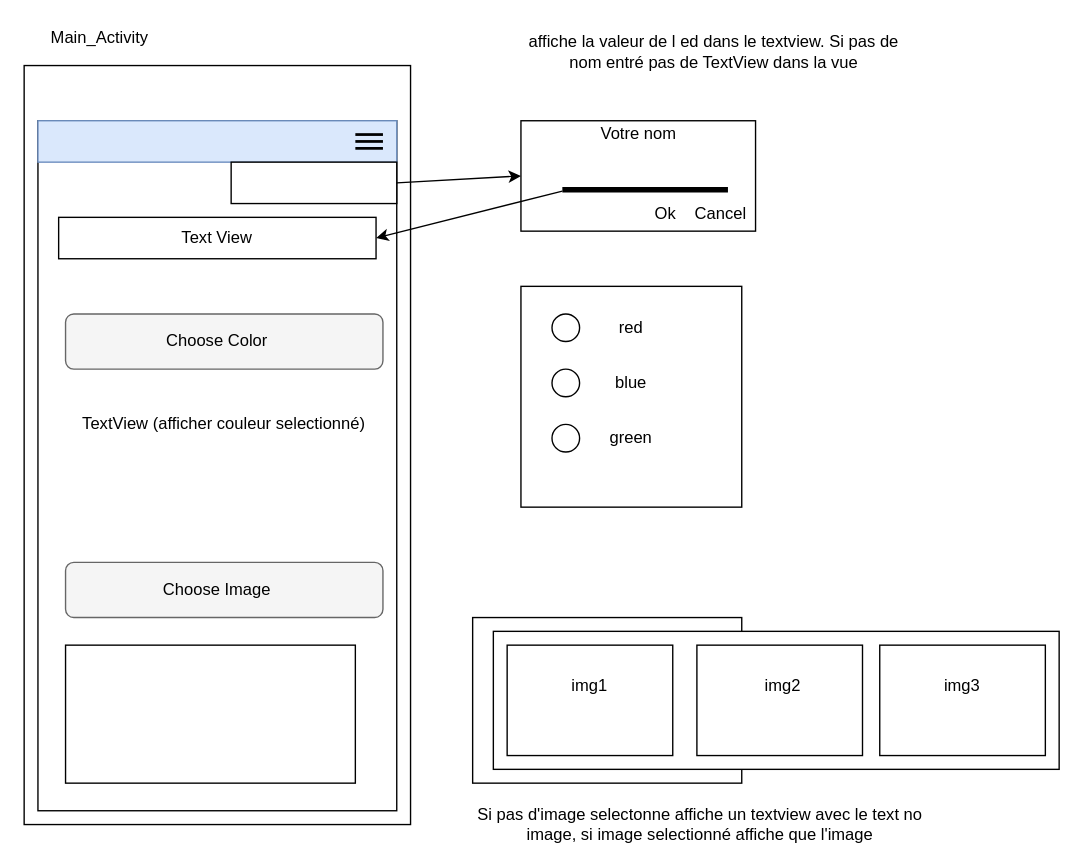
This 1083x868 diagram has some shape labels left out. The shapes that lost their labels are listed below. From the top down, each one's box as (x1, y1, x2, y2) in pixels, then its label:
(37, 119, 397, 162): Exo Menu Dialog
(230, 161, 397, 204): Choose Name
(64, 644, 355, 783): TextView Ou Image Seletionnée
